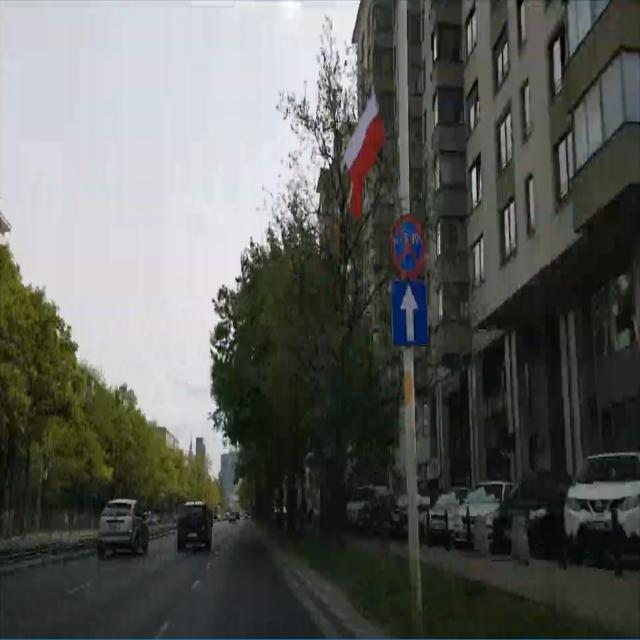Zakaz zatrzymywania sie: (389, 213, 425, 277)
